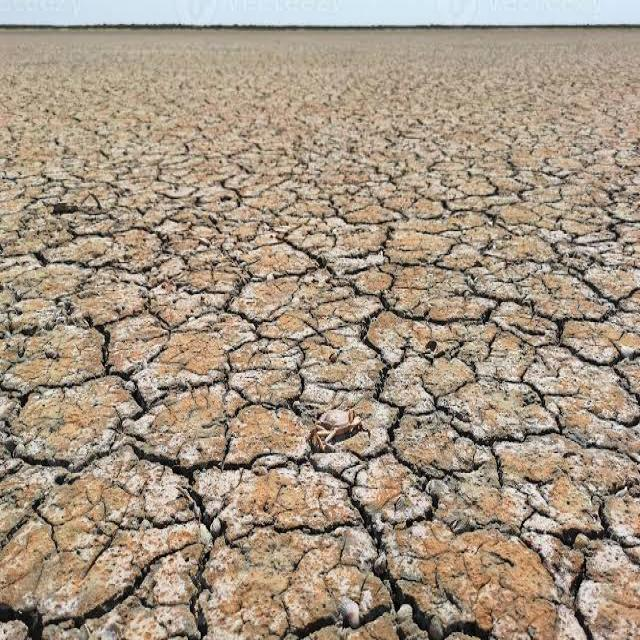suelo_seco: (187, 119, 506, 525)
